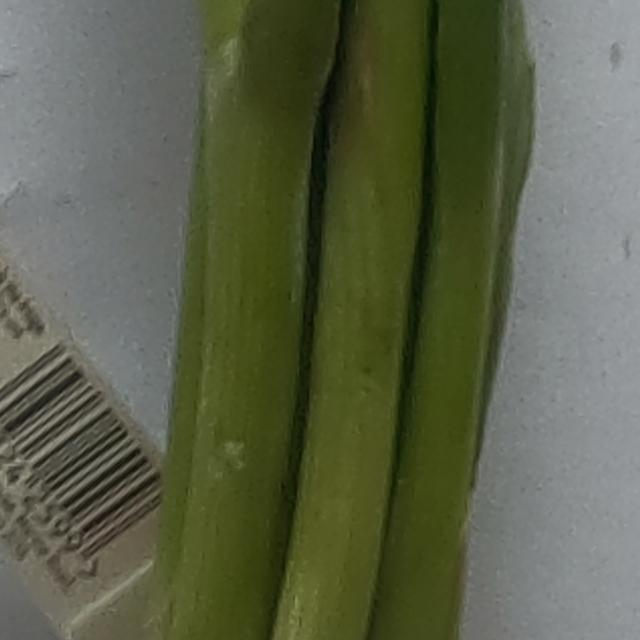green_onion: (0, 0, 553, 640)
